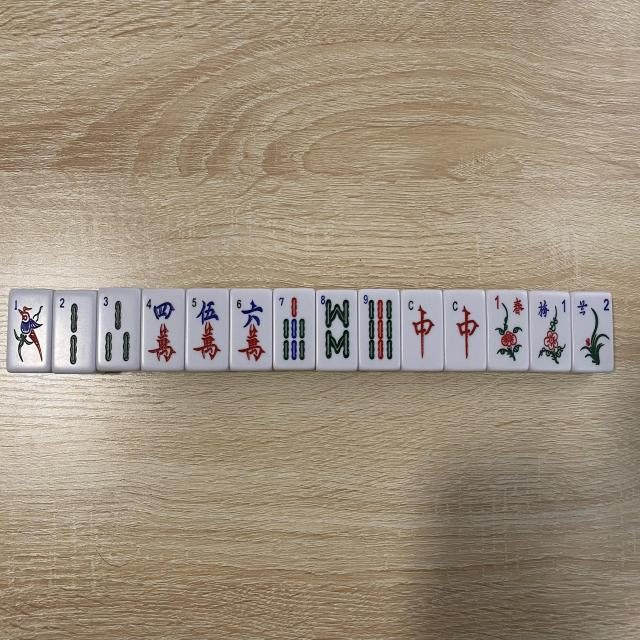bf1: (530, 292, 570, 371)
bf2: (571, 292, 613, 370)
bs1: (486, 290, 529, 370)
hdr: (444, 290, 486, 370), (401, 289, 443, 369)
sb1: (8, 288, 50, 372)
sb2: (54, 292, 94, 371)
sb3: (99, 289, 138, 369)
sb7: (274, 290, 315, 368)
sb8: (316, 291, 358, 370)
sb9: (358, 288, 400, 368)
sc4: (142, 290, 184, 370)
sc5: (188, 291, 228, 369)
sc6: (232, 292, 272, 368)
